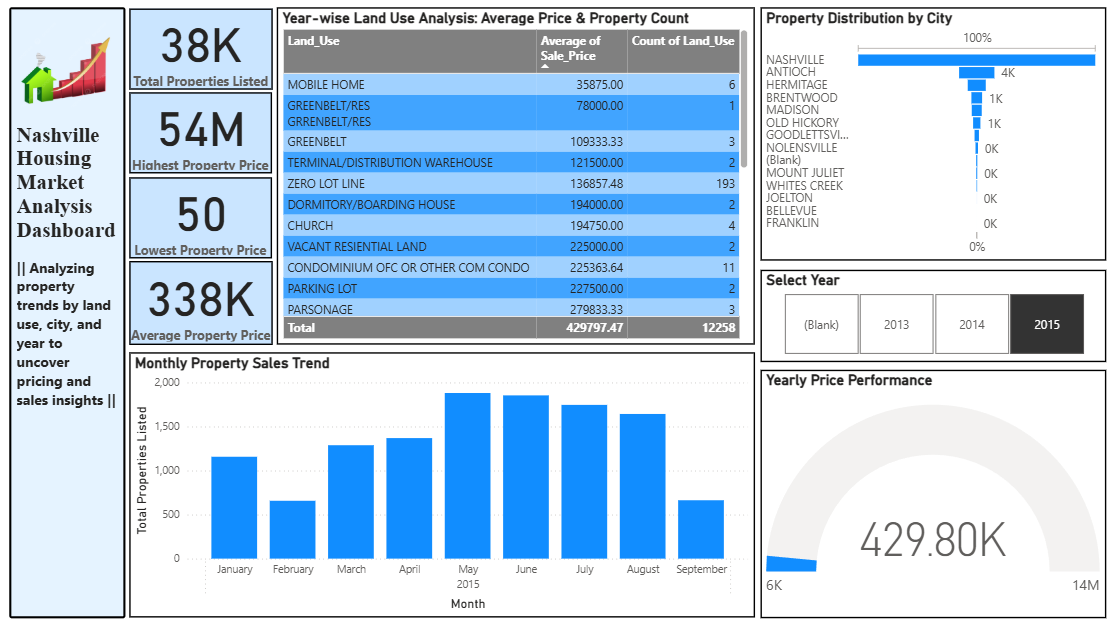

The page's visual inventory and layout, read from the dashboard file:
{"tool":"powerbi","page":{"name":"Page 1","canvas":[1280,720],"ordinal":0},"visuals":[{"type":"card","fields":{"Values":["Sum(total_parcel_id.total)"]},"box":[149.9,13.7,164.2,93],"z":0,"group":"g1"},{"type":"funnel","title":"Property Distribution by City","fields":{"Category":["no_property.property_city"],"Y":["Sum(no_property.no_prop)"]},"box":[871.4,12.3,395.2,289.5],"z":0},{"type":"gauge","title":"Yearly Price Performance","fields":{"MinValue":["Min(housing_data.Sale_Price)"],"MaxValue":["Max(housing_data.Sale_Price)"],"Y":["Avg(housing_data.Sale_Price)"]},"box":[871.4,426.8,395.2,284],"z":1000},{"type":"tableEx","title":"Year-wise Land Use Analysis: Average Price & Property Count","fields":{"Values":["housing_data.Land_Use","Avg(housing_data.Sale_Price)","CountNonNull(housing_data.Land_Use)"]},"box":[318.4,12.3,546.1,385.6],"z":2000},{"type":"slicer","title":"Select Year","fields":{"Values":["housing_data.Sale_Date.Variation.Date Hierarchy.Year"]},"box":[871.4,312.9,395.2,105.7],"z":3000},{"type":"columnChart","title":"Monthly Property Sales Trend","fields":{"Y":["CountNonNull(housing_data.Sale_Price)"],"Category":["housing_data.Sale_Date.Variation.Date Hierarchy.Year","housing_data.Sale_Date.Variation.Date Hierarchy.Month"]},"box":[149.6,407.5,714.9,303.3],"z":4000},{"type":"group","id":"g1","title":"Group 1","box":[149.9,13.7,164.2,385.6],"z":5000},{"type":"textbox","box":[12.3,12.3,133.1,698.5],"z":6000},{"type":"card","fields":{"Values":["Sum(avg_sale_price.avg_price)"]},"box":[149.9,302.9,164.2,96.4],"z":6000,"group":"g1"},{"type":"image","box":[19.2,0,118,150.9],"z":7000},{"type":"card","fields":{"Values":["Sum(avg_sale_price.max_price)"]},"box":[149.9,110.1,162.9,93],"z":7000,"group":"g1"},{"type":"card","fields":{"Values":["Sum(avg_sale_price.min_price)"]},"box":[149.9,206.5,162.9,93],"z":8000,"group":"g1"}]}

Visuals, with their boxes in screenshot pixels (x1, y1, x2, y2), scaled from the page's 1280x720 canvas onto the 1112x622 screenshot:
card - Sum(total_parcel_id.total): [x1=130, y1=12, x2=273, y2=92]
"Property Distribution by City" funnel: [x1=757, y1=11, x2=1100, y2=261]
"Yearly Price Performance" gauge: [x1=757, y1=369, x2=1100, y2=614]
"Year-wise Land Use Analysis: Average Price & Property Count" tableEx: [x1=277, y1=11, x2=751, y2=344]
"Select Year" slicer: [x1=757, y1=270, x2=1100, y2=362]
"Monthly Property Sales Trend" columnChart: [x1=130, y1=352, x2=751, y2=614]
"Group 1" group: [x1=130, y1=12, x2=273, y2=345]
textbox: [x1=11, y1=11, x2=126, y2=614]
card - Sum(avg_sale_price.avg_price): [x1=130, y1=262, x2=273, y2=345]
image: [x1=17, y1=0, x2=119, y2=130]
card - Sum(avg_sale_price.max_price): [x1=130, y1=95, x2=272, y2=175]
card - Sum(avg_sale_price.min_price): [x1=130, y1=178, x2=272, y2=259]
